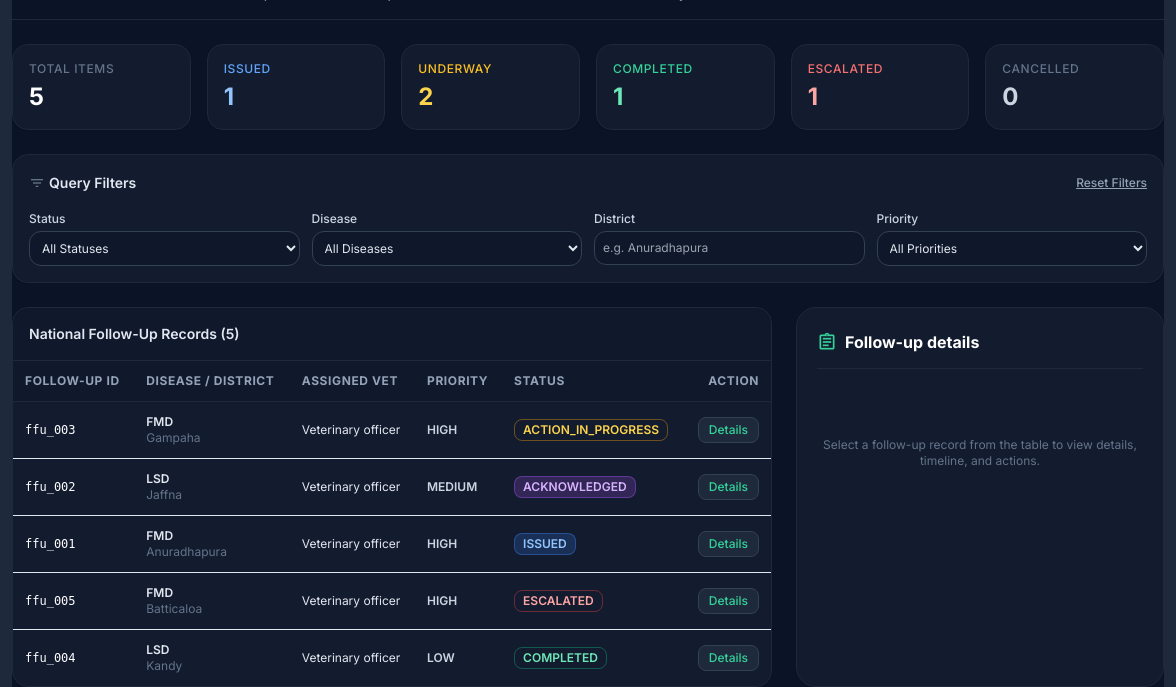
Test case: DaphFollowUpMonitoring Component › DAPH Action Matrix & Cancel Confirmation › hides Cancel button for terminal follow-ups (COMPLETED, ESCALATED)
(page scrolled)
Expected: the text "ffu_004" is shown, [13,630,134,686]
ffu_004 is COMPLETED
Click the button "Details" in the row of "ffu_004".
click(728, 658)  # box [698,645,759,671]
(page scrolled)
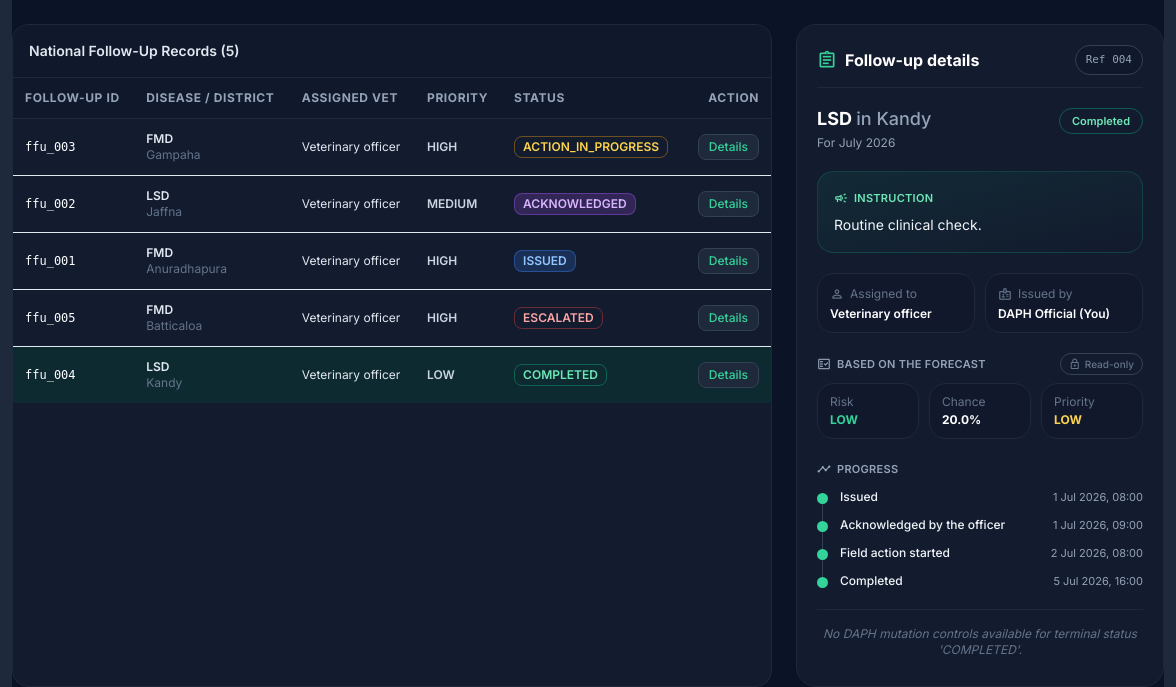
Expected: the text "No DAPH mutation controls available for terminal status 'COMPLETED'" is shown, [817,618,1143,666]
